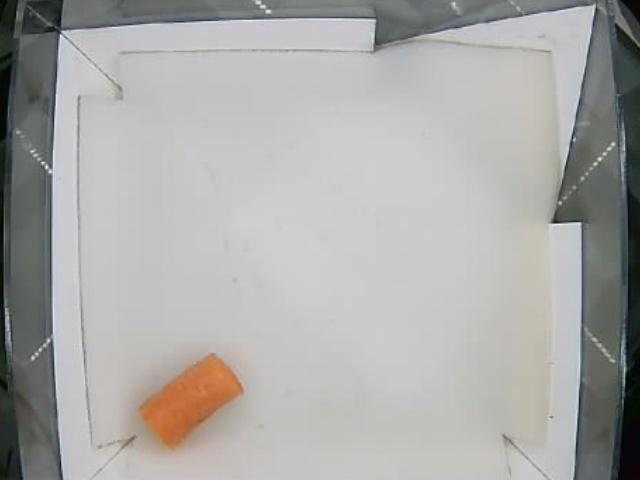Carrot: (139, 352, 241, 451)
